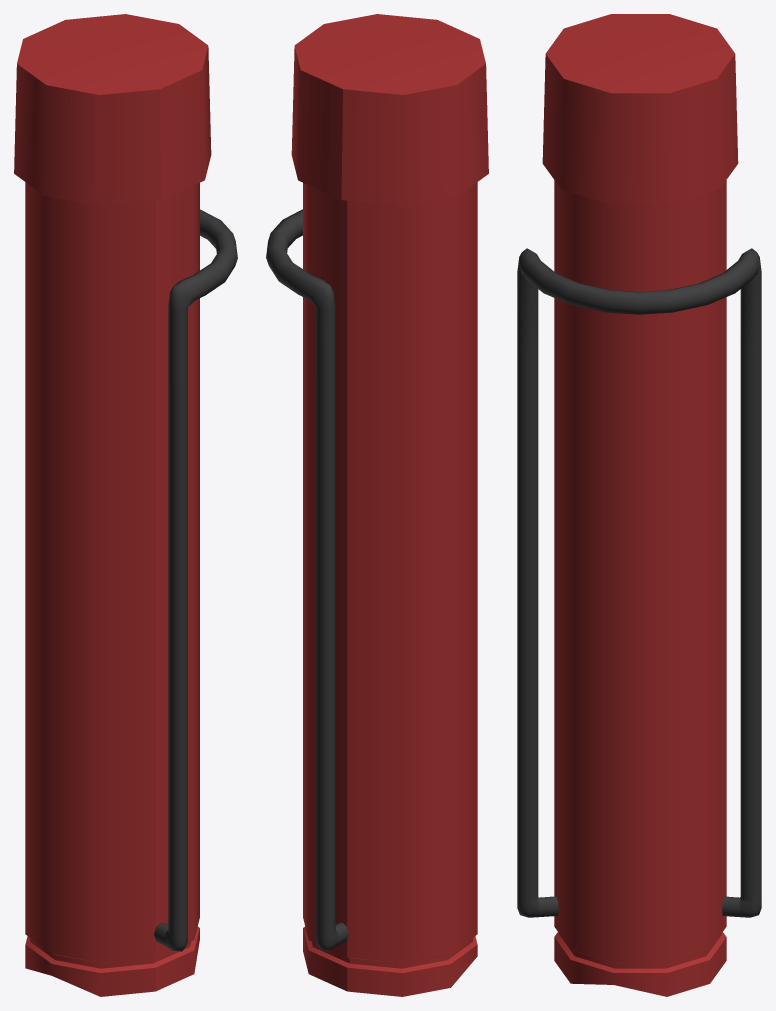
Rendered from FlarePickup.fbx.
3 renders of one model, left to right at view 1: azimuth 30°, elevation 25°; view 2: azimuth 150°, elevation 25°; view 3: azimuth 270°, elevation 25°, orthographic.
Parts seen in each view (by area): view 1: polySurface54; view 2: polySurface54; view 3: polySurface54.
Boxes of the visible parts, x1,y1,x2,y2 form: polySurface54: (14,14,237,996); polySurface54: (266,14,488,996); polySurface54: (517,14,761,996).
Size of the model in its own units: 16.24 by 72.77 by 17.69.
